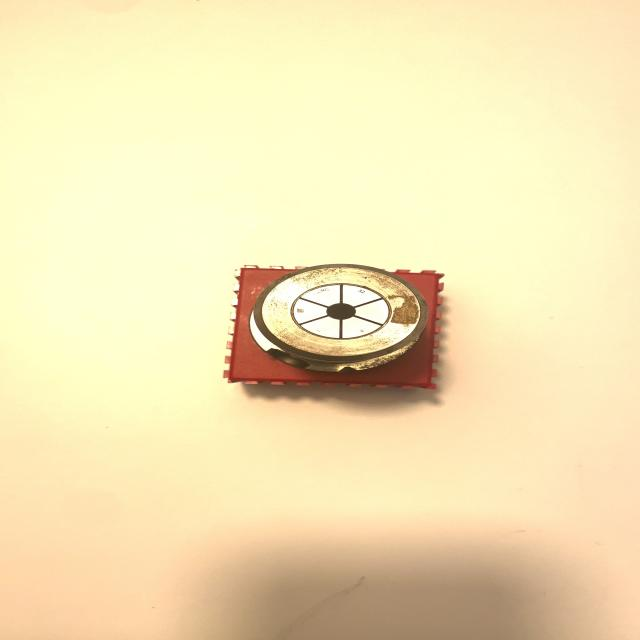Filled_Slot: (249, 264, 427, 372)
